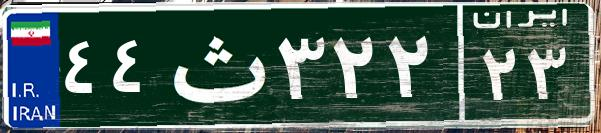2: (385, 28, 445, 110), (330, 28, 385, 110), (475, 38, 525, 113)
3: (273, 28, 330, 110), (525, 38, 570, 115)
4: (57, 26, 110, 107), (110, 28, 158, 105)
ث: (158, 15, 273, 115)
